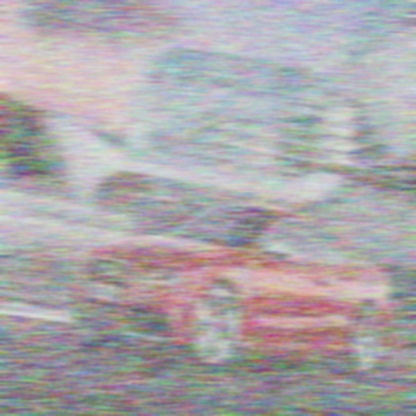Vehicle: (71, 202, 394, 377)
